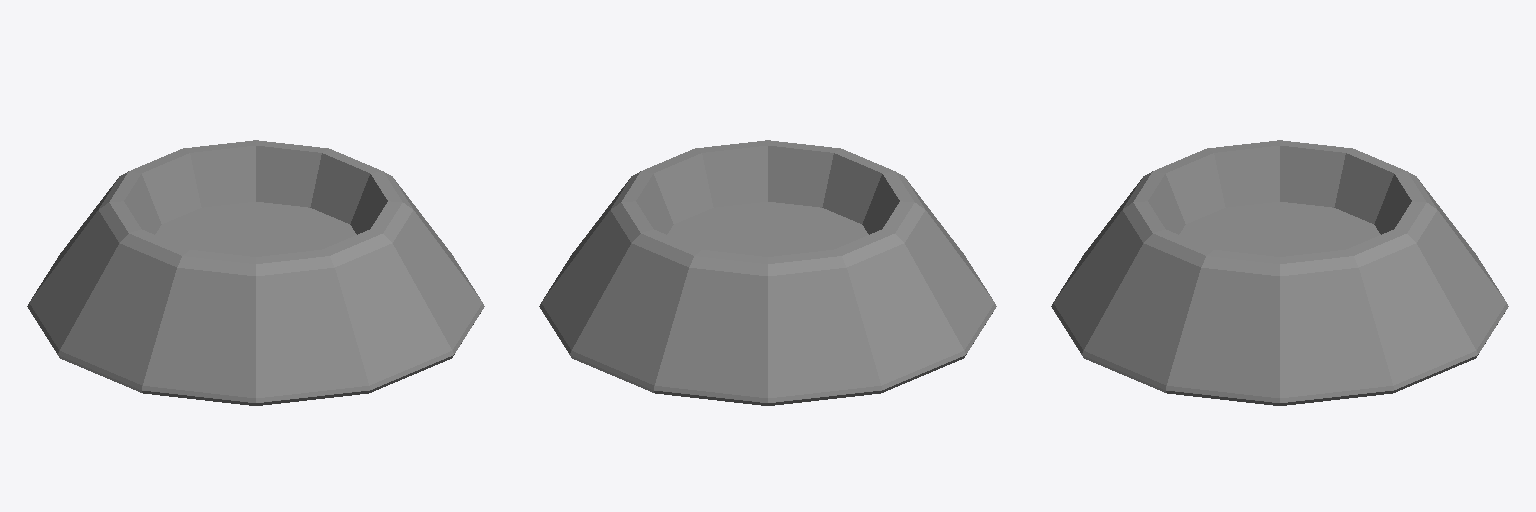
The model's file is Dog_Bowl.obj.
3 renders of one model, left to right at view 1: azimuth 30°, elevation 25°; view 2: azimuth 150°, elevation 25°; view 3: azimuth 270°, elevation 25°, orthographic.
Visible parts, largest first — view 1: Cylinder001; view 2: Cylinder001; view 3: Cylinder001.
Boxes of the visible parts, x1,y1,x2,y2 form: Cylinder001: [27, 140, 484, 405]; Cylinder001: [539, 140, 996, 405]; Cylinder001: [1051, 140, 1508, 405].
Bounding box in the file's own units: 21.9 × 5.77 × 21.9.